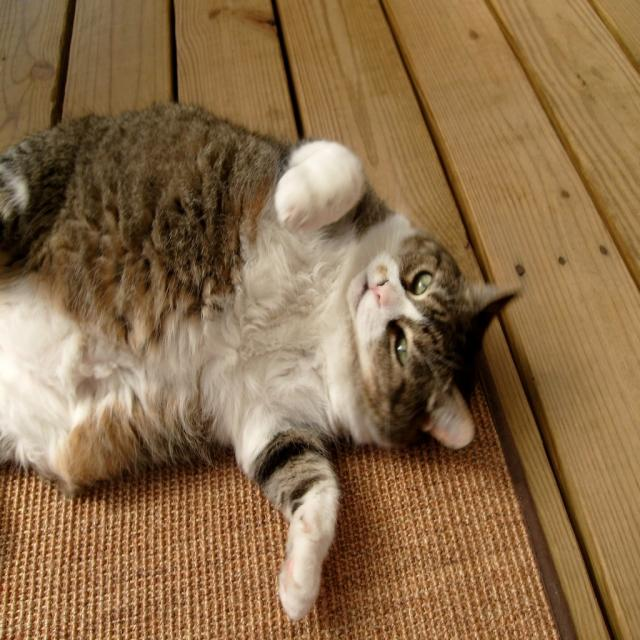Cat: (0, 93, 522, 619)
